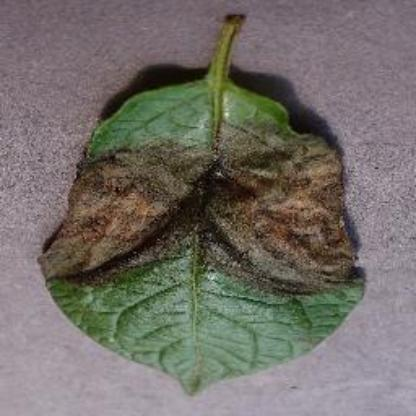Late-Blight: (32, 8, 382, 394), (366, 358, 372, 368)
